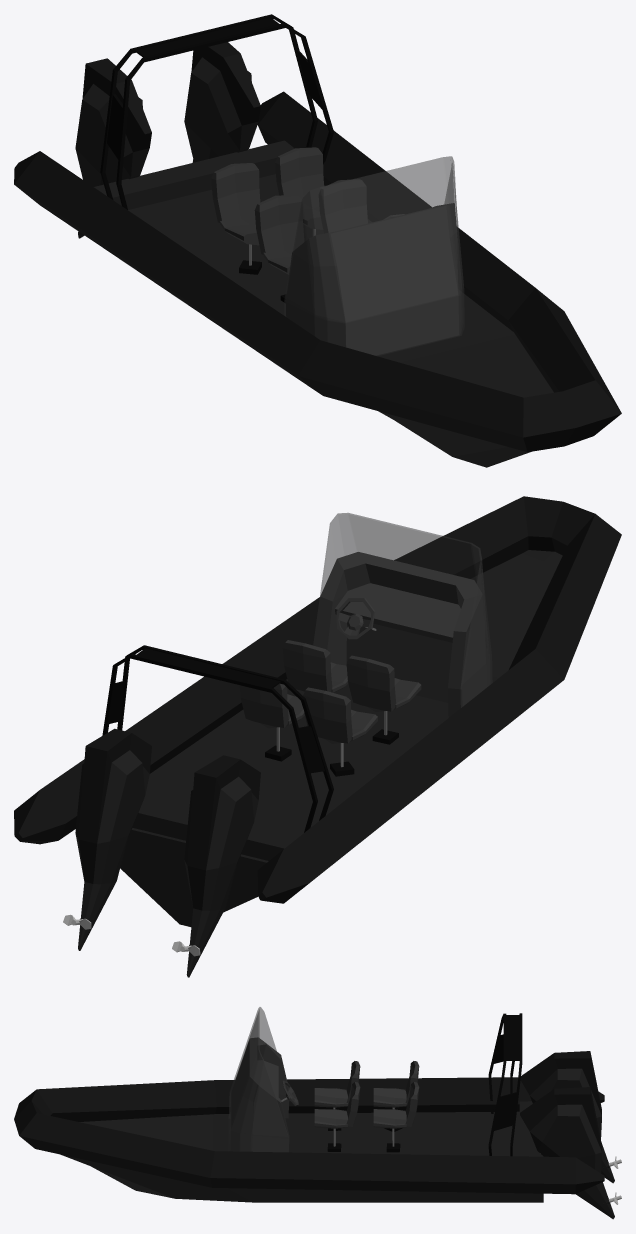
3 renders of one model, top to bottom at view 1: azimuth 30°, elevation 25°; view 2: azimuth 150°, elevation 25°; view 3: azimuth 270°, elevation 25°, orthographic. The views are drawn at different scales.
Visible parts, largest first — view 1: Cylinder.020, Plane.008, Plane.009, Cylinder.022, Cylinder.023; view 2: Cylinder.020, Plane.008, Cylinder.023, Cylinder.022, Plane.009; view 3: Cylinder.020, Plane.008, Cylinder.022, Plane.009, Cylinder.023.
Boxes of the visible parts, x1,y1,x2,y2 form: Cylinder.020: [14, 14, 621, 467]; Plane.008: [211, 147, 458, 355]; Plane.009: [284, 156, 464, 355]; Cylinder.022: [184, 42, 260, 162]; Cylinder.023: [75, 58, 151, 238]; Cylinder.020: [14, 496, 621, 926]; Plane.008: [239, 552, 486, 776]; Cylinder.023: [184, 755, 260, 977]; Cylinder.022: [75, 728, 151, 950]; Plane.009: [313, 513, 492, 707]; Cylinder.020: [14, 1013, 604, 1202]; Plane.008: [230, 1037, 419, 1152]; Cylinder.022: [520, 1087, 614, 1219]; Plane.009: [228, 1007, 288, 1151]; Cylinder.023: [520, 1051, 614, 1183].
Bounding box in the file's own units: 174 × 139 × 457.
